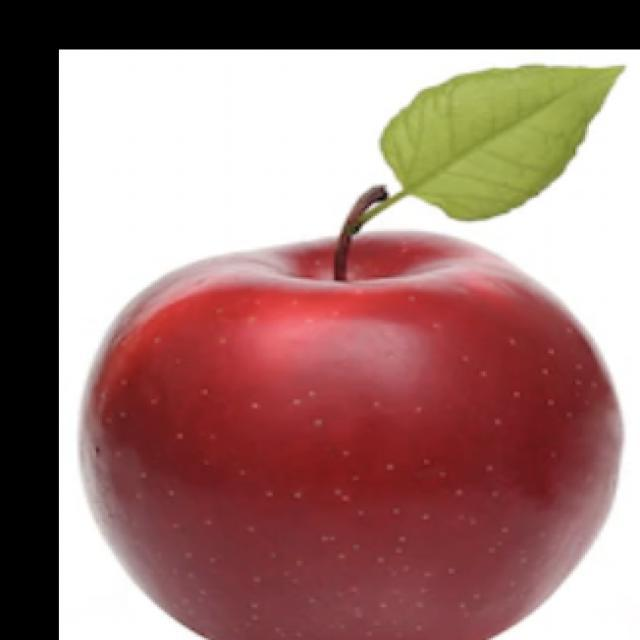Fresh Apple: (73, 228, 627, 640)
